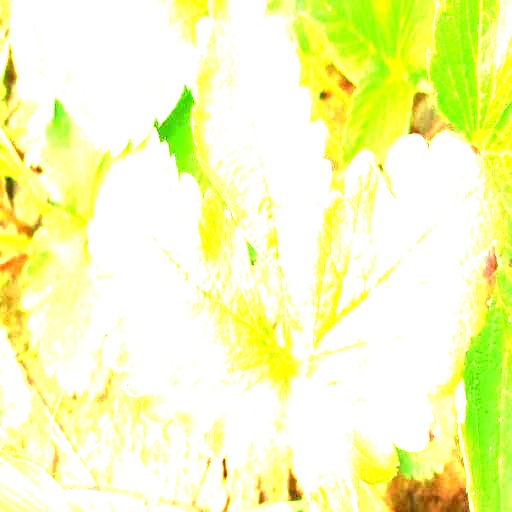Leaf Spot: (281, 129, 505, 502), (87, 127, 290, 463), (188, 0, 333, 353), (37, 0, 208, 158)
